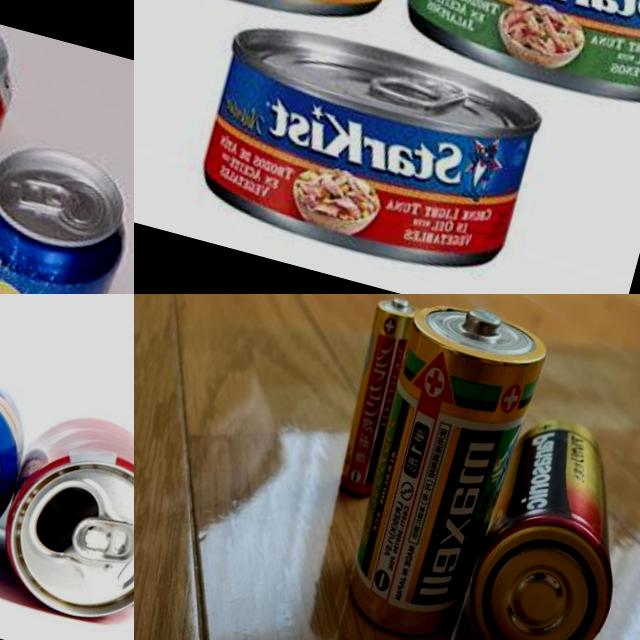aba de lata: (366, 61, 470, 118), (68, 509, 134, 568), (16, 174, 71, 217)
bateria: (328, 294, 553, 640), (446, 409, 640, 640), (325, 294, 428, 504)
lata: (186, 9, 548, 290), (0, 400, 134, 640), (391, 0, 640, 118), (0, 123, 134, 294), (0, 350, 40, 581), (0, 0, 31, 294)
